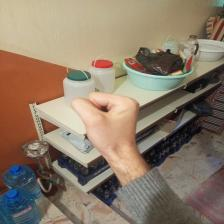five: (69, 89, 144, 163)
